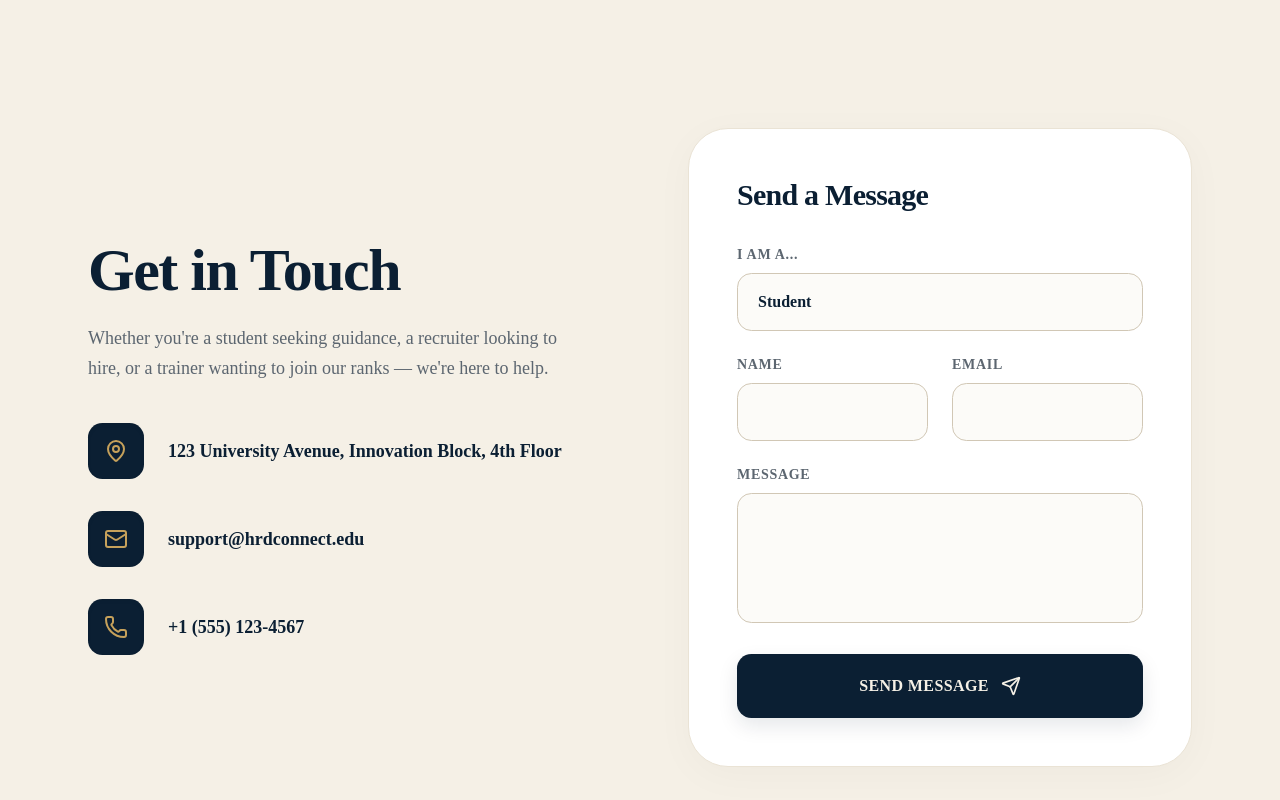
ContactPage › submits form successfully
Type "Test User" into the field below "Name" at (832, 412), box [737, 383, 928, 441]
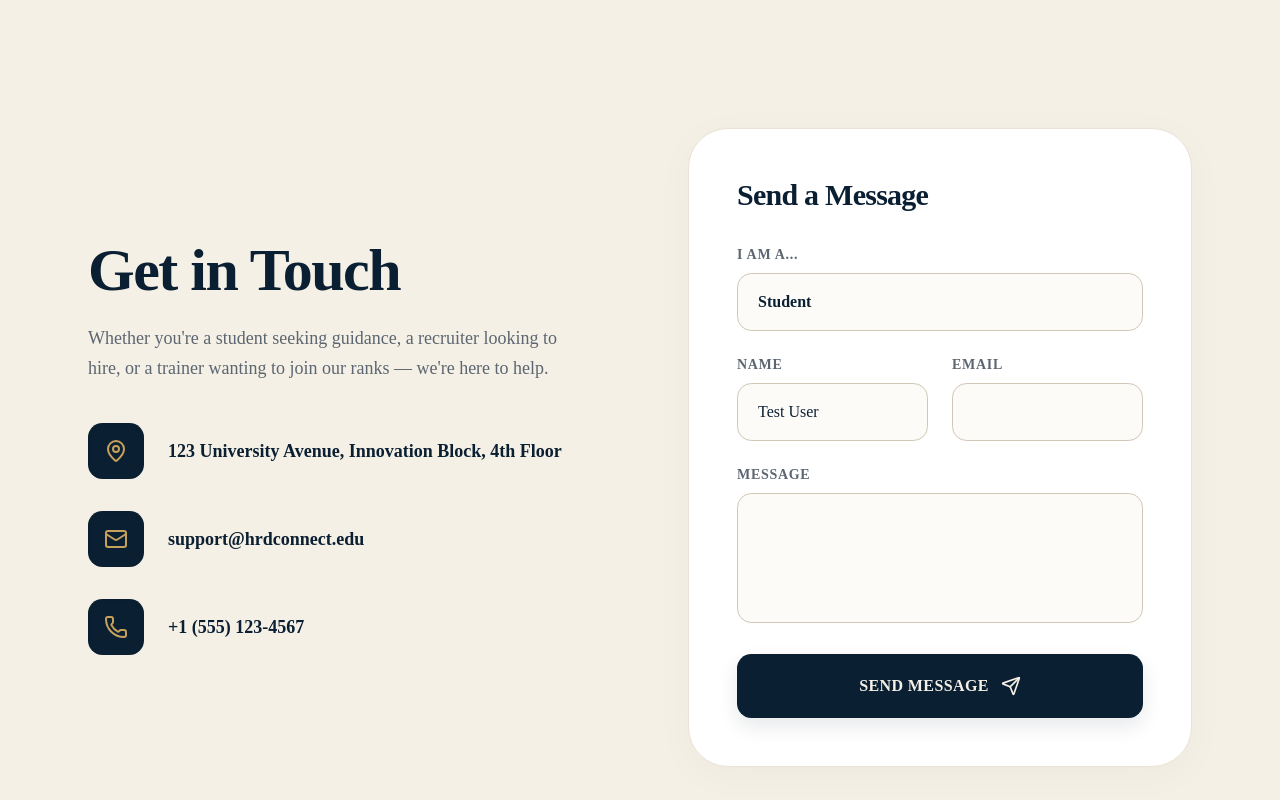
Type "test@example.com" into the field below "Email" at (1048, 412), box [952, 383, 1143, 441]
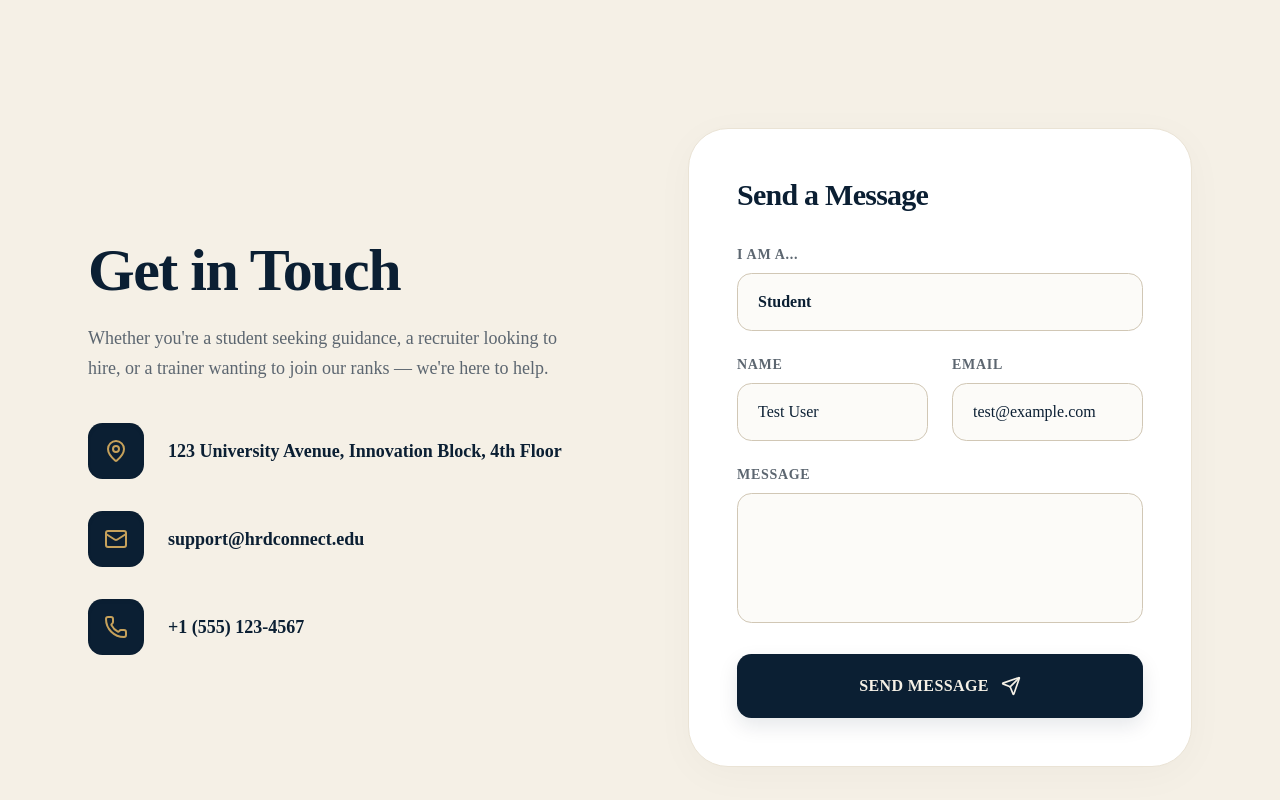
Type "Hello world" into the text box at (940, 558), box [737, 493, 1143, 623]
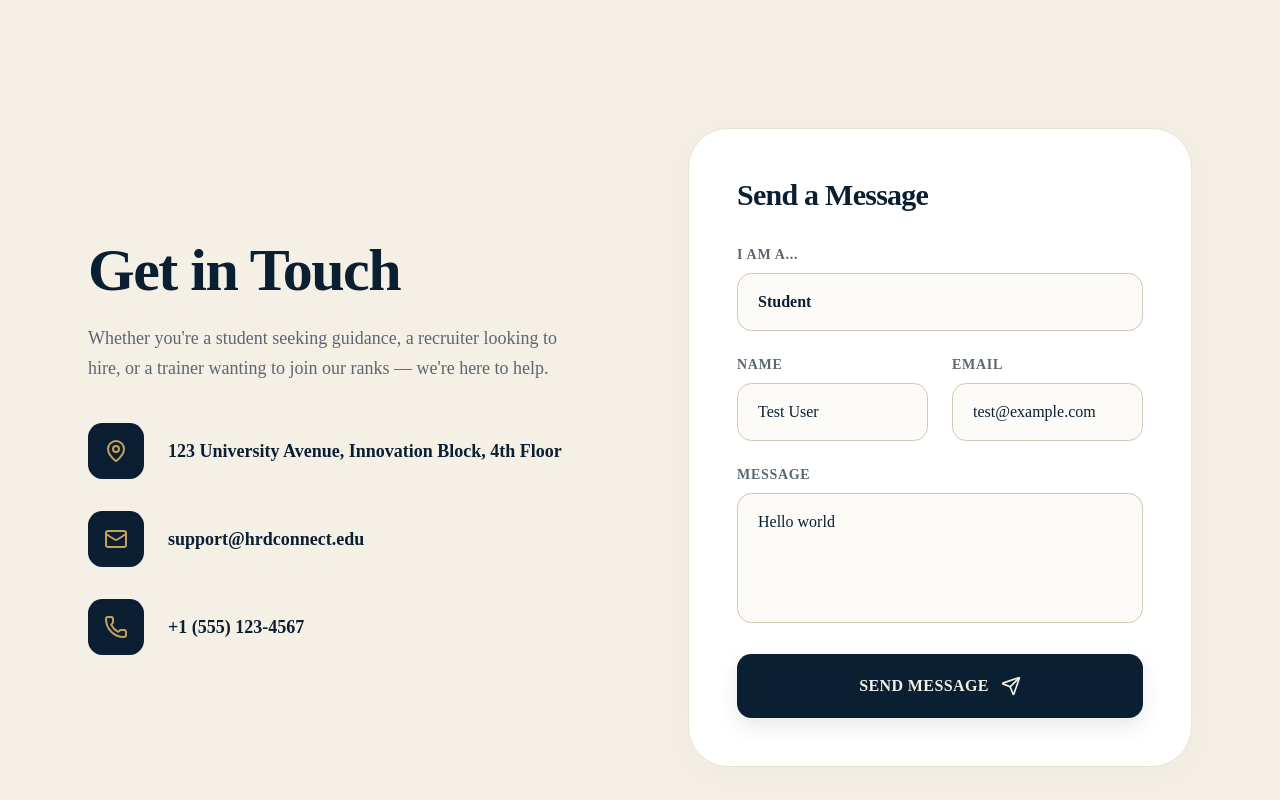
Select "Trainer" in the dropdown at (940, 302), box [737, 273, 1143, 331]
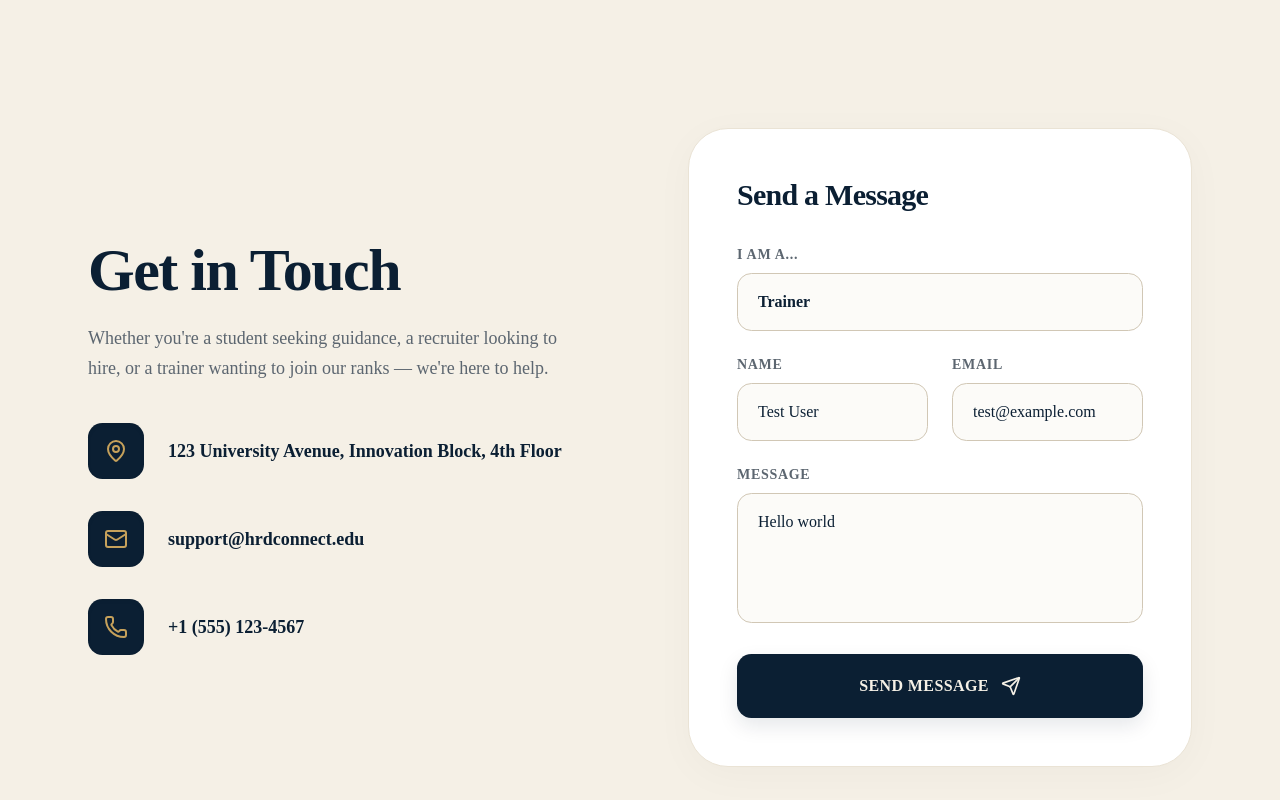
// Submit the form
Submit the form, box [737, 245, 1143, 718]
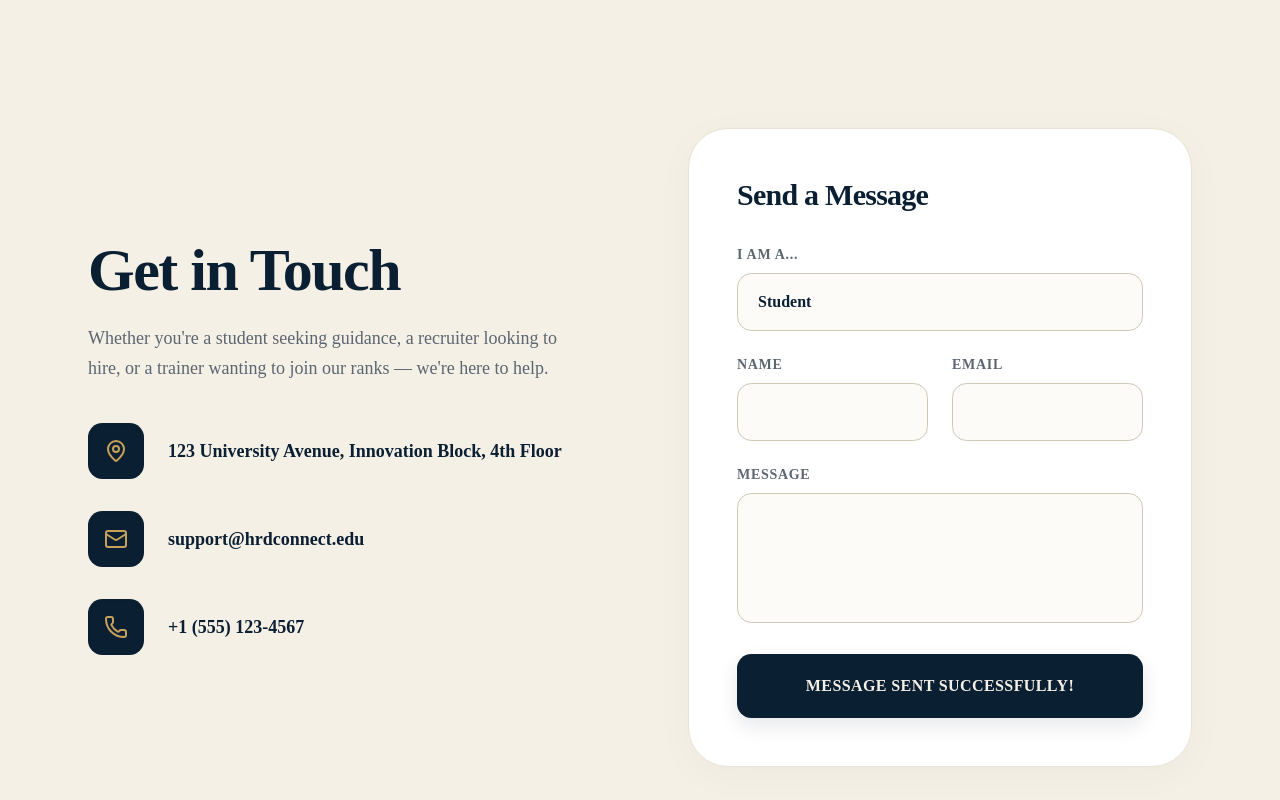
Result: the button "Message Sent Successfully!" is shown at [737, 654, 1143, 718]
